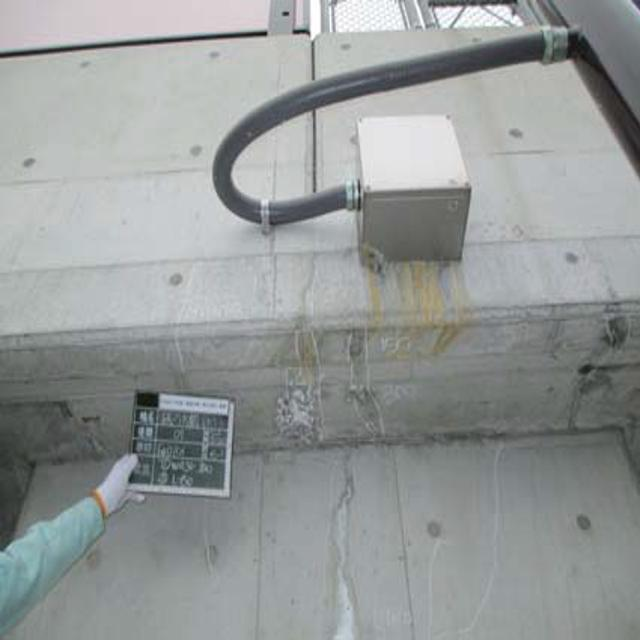freelime: (324, 483, 376, 640), (274, 372, 329, 462)
